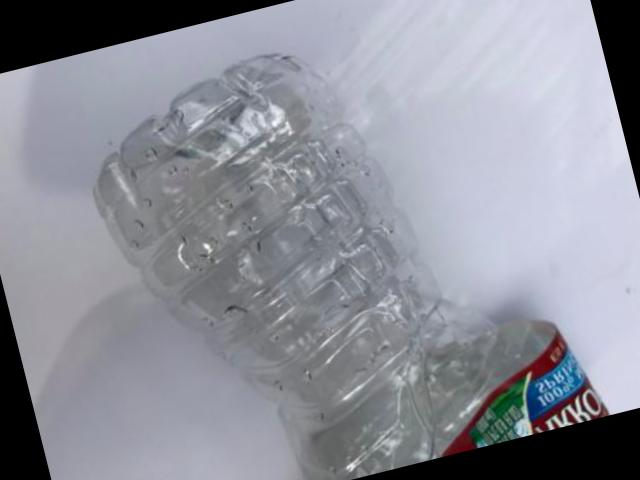plastic: (95, 52, 610, 480)
